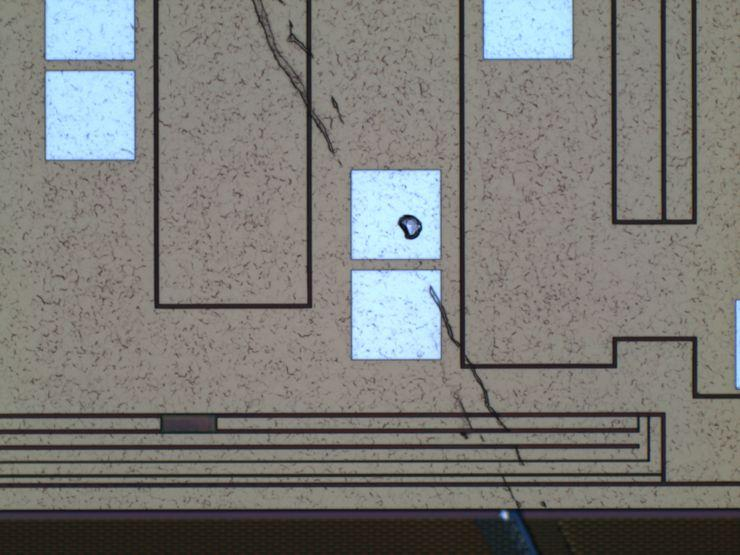SCRATCH: (245, 1, 582, 555)
